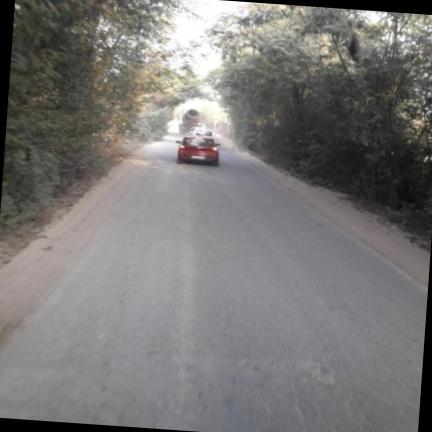Road: (0, 139, 427, 431)
